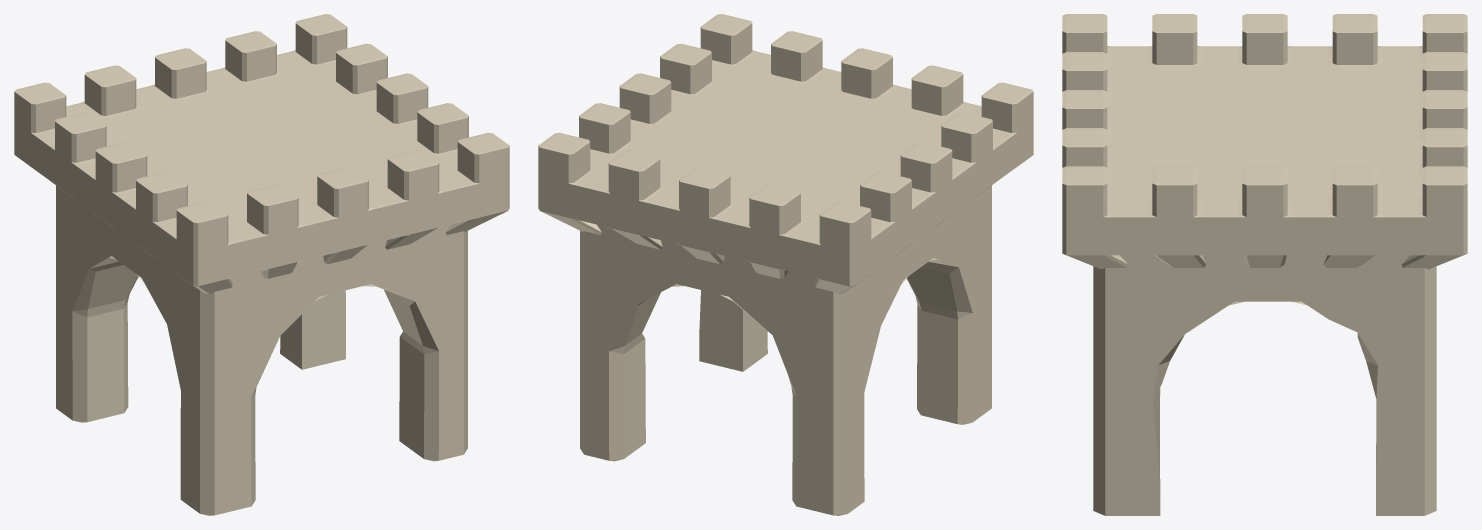
File: CenterTower.fbx
3 views of the same model, side by side, from view 1: azimuth 30°, elevation 25°; view 2: azimuth 150°, elevation 25°; view 3: azimuth 270°, elevation 25° (orthographic). The views are drawn at different scales.
Parts seen in each view (by area): view 1: MainTowerBse.003, MainTowerBse.002; view 2: MainTowerBse.003, MainTowerBse.002; view 3: MainTowerBse.003, MainTowerBse.002.
Part boxes in pixels (x1,y1,x2,y2): MainTowerBse.003: (14, 14, 509, 294); MainTowerBse.002: (56, 185, 467, 515); MainTowerBse.003: (538, 14, 1033, 294); MainTowerBse.002: (580, 185, 991, 515); MainTowerBse.003: (1062, 14, 1467, 269); MainTowerBse.002: (1093, 255, 1436, 515).
Bounding box in the file's own units: 1340 × 1273 × 1340.
